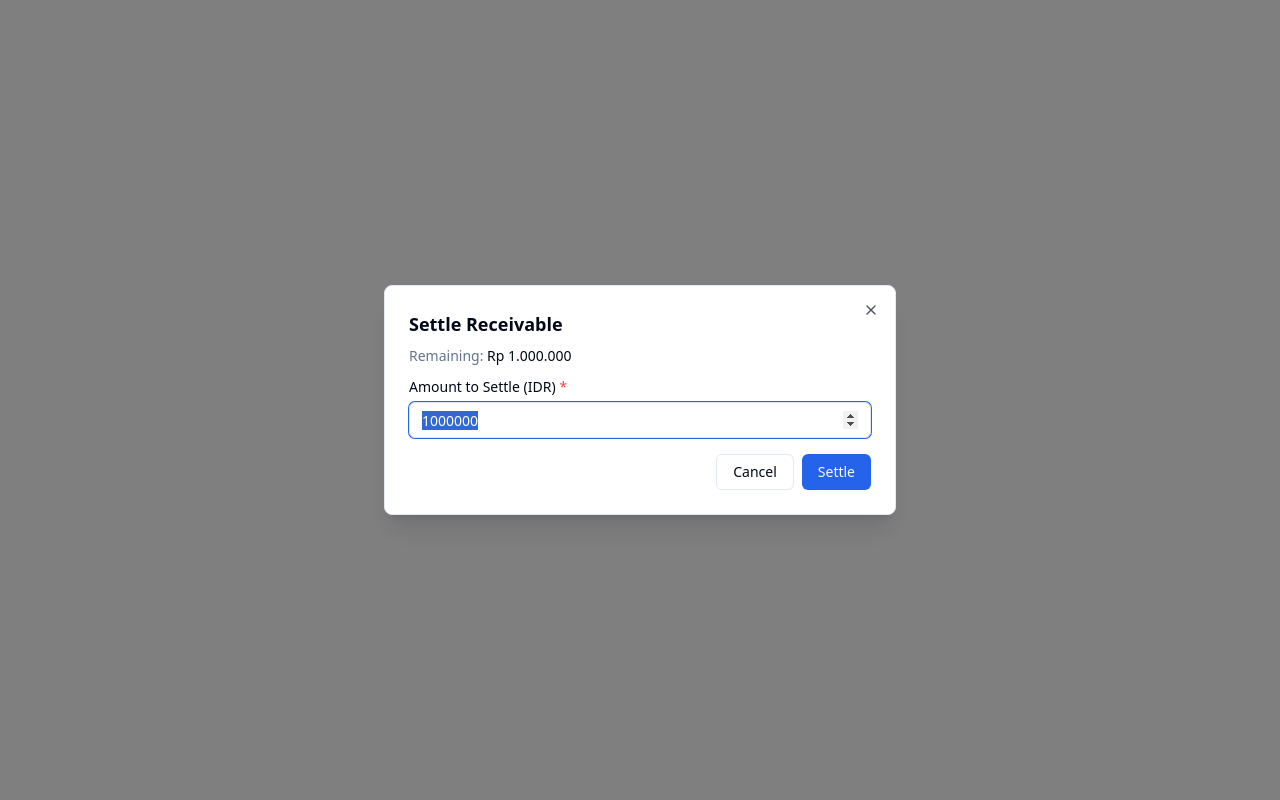
Test: SettleReceivableModal — applyApiErrors wiring › surfaces field error on settled_amount field when server returns fieldErrors
Click the button "Settle": click(836, 472) [802,454,871,490]
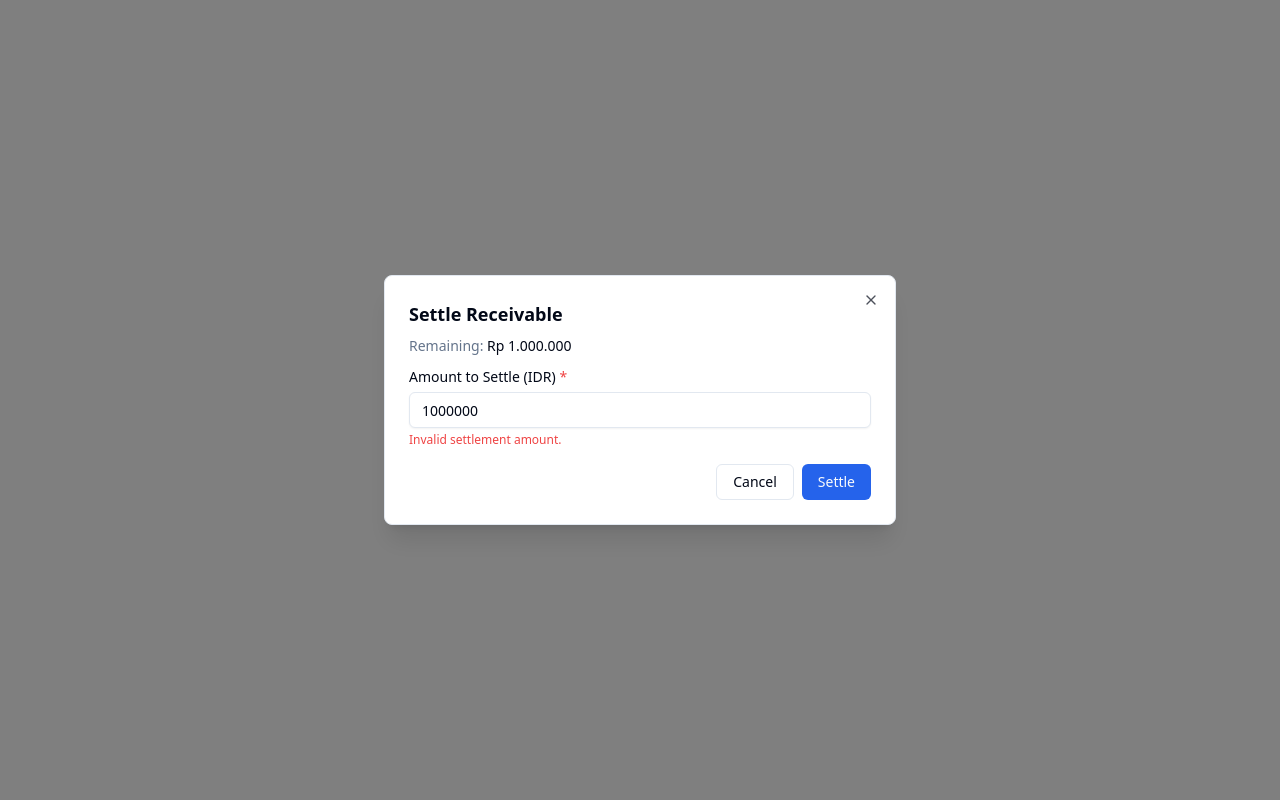
Expected: the text "Invalid settlement amount." is shown, [409,431,562,448]
